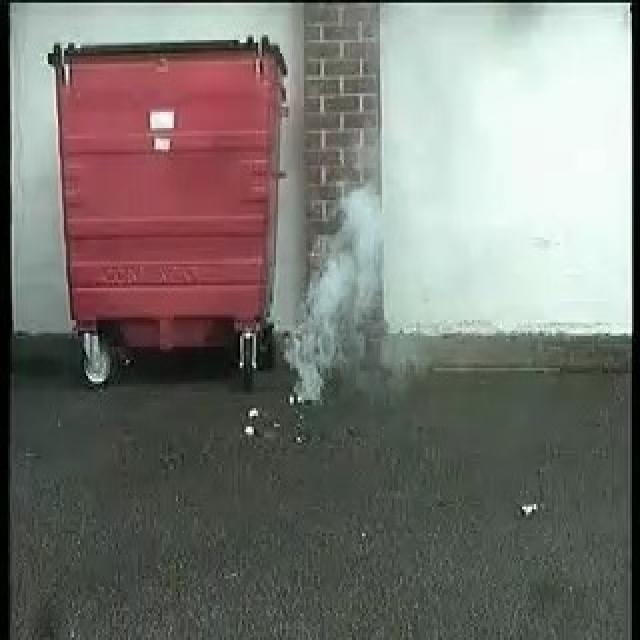smoke: (287, 184, 387, 404)
